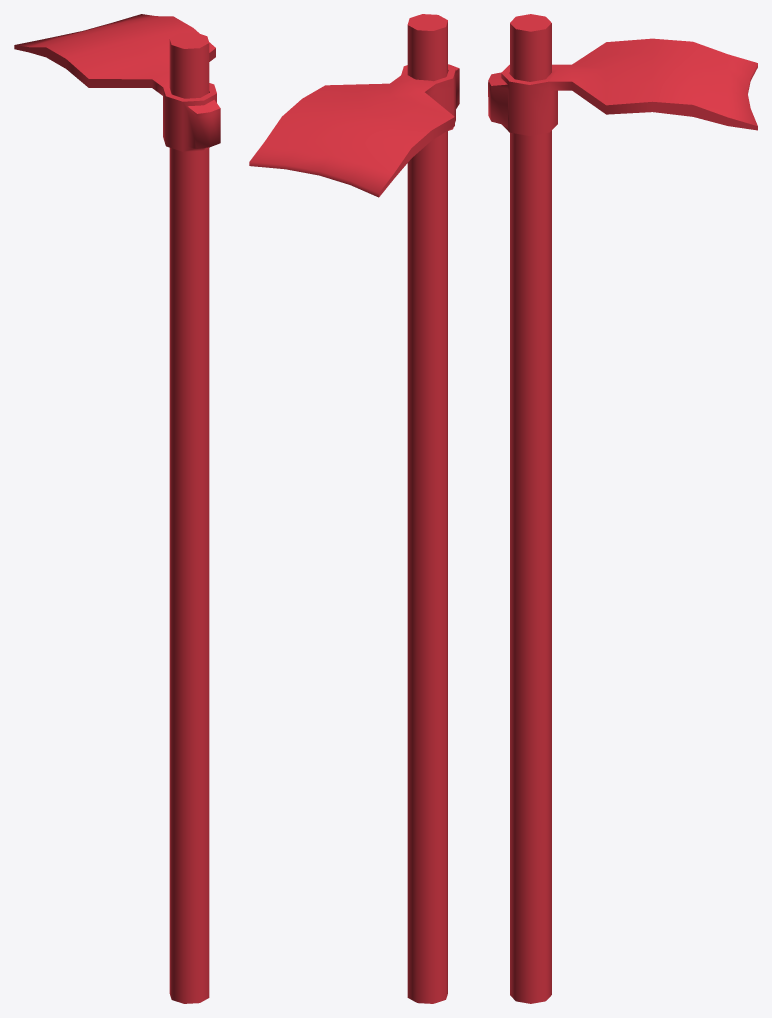
File: mod_Azada_Unity.fbx
3 views of the same model, side by side, from view 1: azimuth 30°, elevation 25°; view 2: azimuth 150°, elevation 25°; view 3: azimuth 270°, elevation 25° (orthographic).
Visible parts, largest first — view 1: Cilindro, Cilindro.001; view 2: Cilindro, Cilindro.001; view 3: Cilindro, Cilindro.001.
Part boxes in pixels (x1,y1,x2,y2): Cilindro: (169, 32, 209, 1003); Cilindro.001: (14, 14, 220, 151); Cilindro: (407, 14, 447, 1003); Cilindro.001: (249, 64, 459, 197); Cilindro: (510, 14, 551, 1003); Cilindro.001: (488, 38, 757, 135).
Size of the model in its own units: 0.1229 by 0.882 by 0.2219.
